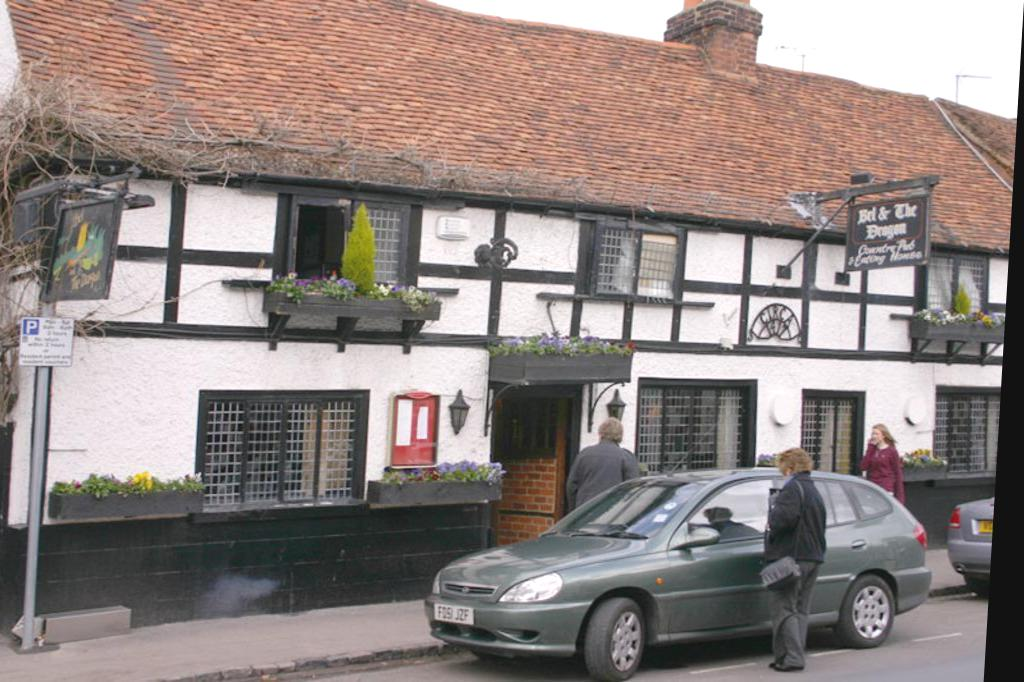License_Plate: (434, 603, 478, 623), (975, 519, 990, 532)
